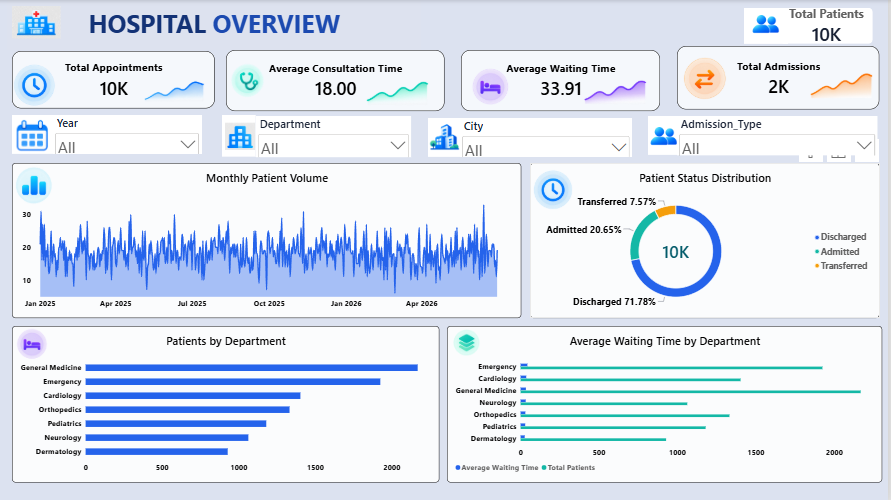

What the dashboard file says about the page in this screenshot:
{"tool":"powerbi","page":{"name":"Hospital Overview","canvas":[1920,1080],"ordinal":0},"visuals":[{"type":"textbox","box":[15,0,895,107.5],"z":0},{"type":"cardVisual","fields":{"Data":["hospital_operations.Average Consultation Time"]},"box":[487.5,107.5,472.5,132.5],"z":1000},{"type":"cardVisual","fields":{"Data":["hospital_operations.Average Waiting Time"]},"box":[995,107.5,430,132.5],"z":2000},{"type":"cardVisual","fields":{"Data":["hospital_operations.Total Admissions"]},"box":[1461.7,100,437.5,137.5],"z":3000},{"type":"areaChart","title":"Monthly Patient Volume","fields":{"Category":["DateTable.Date"],"Y":["hospital_operations.Total Patients"]},"box":[25,352.5,1100,335],"z":4000},{"type":"clusteredBarChart","title":"Patients by Department","fields":{"Category":["hospital_operations.Department"],"Y":["hospital_operations.Total Patients"]},"box":[25,705,922.5,337.5],"z":5000},{"type":"clusteredBarChart","title":"Average Waiting Time by Department","fields":{"Category":["hospital_operations.Department"],"Y":["hospital_operations.Average Waiting Time","hospital_operations.Total Patients"]},"box":[965,705,940,337.5],"z":6000},{"type":"donutChart","title":"Patient Status Distribution","fields":{"Category":["hospital_operations.Status"],"Y":["hospital_operations.Total Patients"]},"box":[1145,352.5,755,335],"z":7000},{"type":"slicer","fields":{"Values":["hospital_operations.Department"]},"box":[553,250.6,334.8,88.6],"z":8000},{"type":"slicer","fields":{"Values":["hospital_operations.City"]},"box":[994.3,254.3,371.4,84.3],"z":9000},{"type":"slicer","fields":{"Values":["hospital_operations.Year"]},"box":[114.5,248.4,319.7,84.2],"z":10000},{"type":"cardVisual","fields":{"Data":["hospital_operations.Total Appointments"]},"box":[25,110,438.6,124.3],"z":11000},{"type":"image","box":[495,122.5,80,100],"z":12000},{"type":"image","box":[22.5,107.5,105.8,149],"z":13000},{"type":"image","box":[1010,140,97.5,90],"z":14000},{"type":"image","box":[1466.6,118.8,112.3,99.4],"z":15000},{"type":"image","box":[1145,352.5,100,112.5],"z":16000},{"type":"image","box":[787.5,122.5,138.2,151.2],"z":17000},{"type":"image","box":[306.7,118.8,138.2,151.2],"z":18000},{"type":"image","box":[1747.4,108,138.2,151.2],"z":19000},{"type":"image","box":[1260,120,138.2,151.2],"z":20000},{"type":"shape","box":[25.9,248.4,88.6,84.2],"z":21000},{"type":"shape","box":[480,248.6,72.9,90],"z":22000},{"type":"shape","box":[1400,250,67.1,84.3],"z":23000},{"type":"shape","box":[924.3,254.3,70,84.3],"z":24000},{"type":"image","box":[22,250,96,83],"z":25000},{"type":"image","box":[1395,247.5,77,87],"z":26000},{"type":"image","box":[925,260,70,72.5],"z":27000},{"type":"image","box":[485,257.5,65,75],"z":28000},{"type":"image","box":[22.5,705,95,75],"z":29000},{"type":"image","box":[975,697.5,67.5,82.5],"z":30000},{"type":"slicer","fields":{"Values":["hospital_operations.Admission_Type"]},"box":[1462.5,250,432.5,85],"z":31000},{"type":"image","box":[22.5,352.5,102.5,92.5],"z":32000},{"type":"image","box":[25,0,105,95],"z":33000},{"type":"image","box":[1615,12.5,77,87],"z":34000},{"type":"shape","box":[1607.5,17.5,95,77.5],"z":35000},{"type":"cardVisual","fields":{"Data":["hospital_operations.Total Patients"]},"box":[1685,17.5,200,77.5],"z":36000},{"type":"image","box":[1615,7.5,77,87],"z":37000}]}

Visuals, with their boxes in screenshot pixels (x1, y1, x2, y2), scaled from the page's 1920x1080 canvas onto the 891x500 screenshot:
textbox: 7,0,422,50
cardVisual - hospital_operations.Average Consultation Time: 226,50,446,111
cardVisual - hospital_operations.Average Waiting Time: 462,50,661,111
cardVisual - hospital_operations.Total Admissions: 678,46,881,110
"Monthly Patient Volume" areaChart: 12,163,522,318
"Patients by Department" clusteredBarChart: 12,326,440,483
"Average Waiting Time by Department" clusteredBarChart: 448,326,884,483
"Patient Status Distribution" donutChart: 531,163,882,318
slicer - hospital_operations.Department: 257,116,412,157
slicer - hospital_operations.City: 461,118,634,157
slicer - hospital_operations.Year: 53,115,201,154
cardVisual - hospital_operations.Total Appointments: 12,51,215,108
image: 230,57,267,103
image: 10,50,60,119
image: 469,65,514,106
image: 681,55,733,101
image: 531,163,578,215
image: 365,57,430,127
image: 142,55,206,125
image: 811,50,875,120
image: 585,56,649,126
shape: 12,115,53,154
shape: 223,115,257,157
shape: 650,116,681,155
shape: 429,118,461,157
image: 10,116,55,154
image: 647,115,683,155
image: 429,120,462,154
image: 225,119,255,154
image: 10,326,55,361
image: 452,323,484,361
slicer - hospital_operations.Admission_Type: 679,116,879,155
image: 10,163,58,206
image: 12,0,60,44
image: 749,6,785,46
shape: 746,8,790,44
cardVisual - hospital_operations.Total Patients: 782,8,875,44
image: 749,3,785,44
